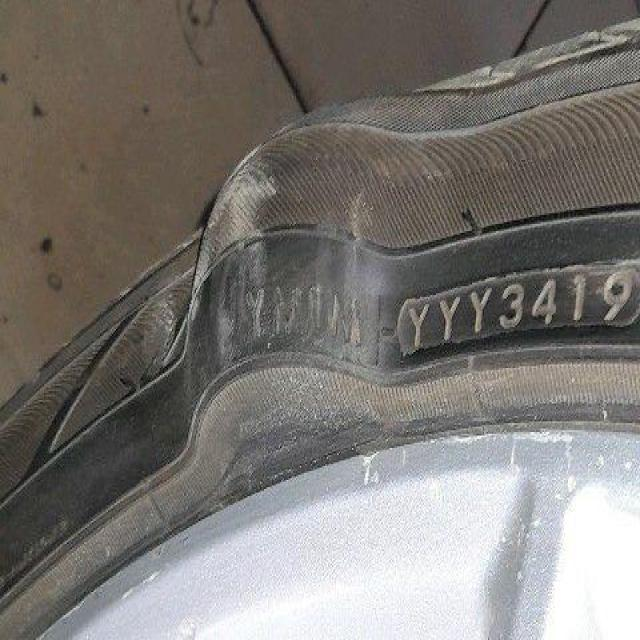Bulge: (176, 104, 408, 460)
